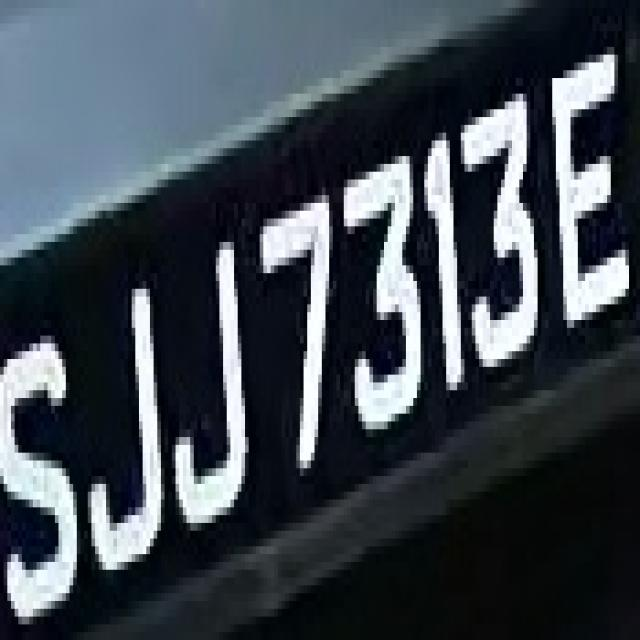1: (420, 117, 464, 406)
3: (333, 133, 424, 468), (454, 70, 542, 382)
7: (256, 203, 336, 507)
E: (545, 39, 633, 343)
J: (161, 226, 263, 546), (95, 242, 172, 578)
S: (14, 296, 95, 640)
